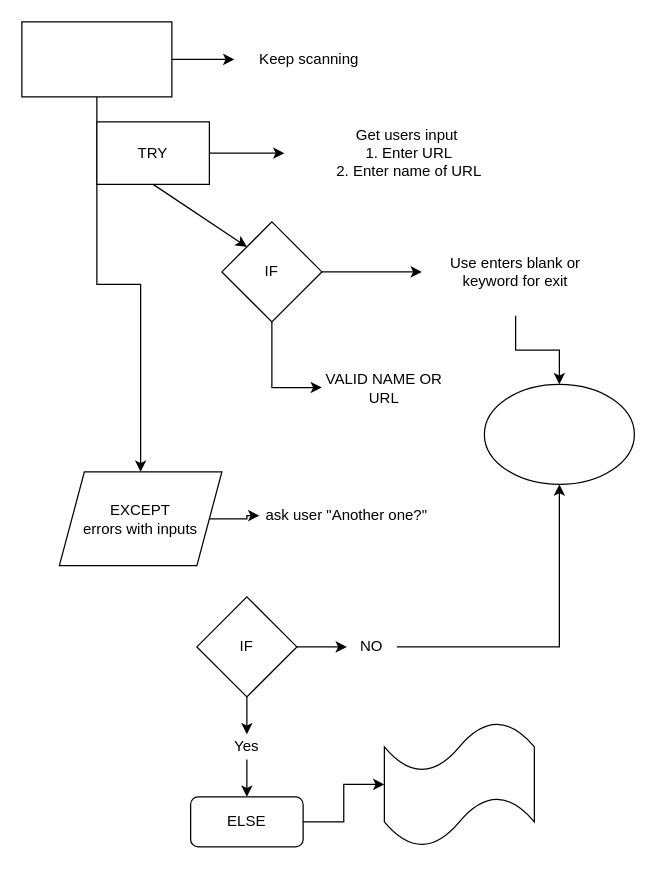
Some shapes in this 656 by 869 pixel diagram are drawn without their labels. The shapes that lost their labels are listed below. From the top down, each one's centre as x and y in pixels, then its label:
At point 96,59: "WHILE".
At point 558,433: "BREAK breaks the loop".
At point 458,784: "CONTINUE".
